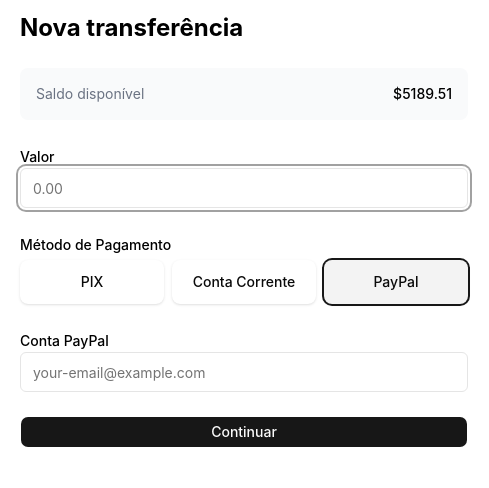
TransactionForm › should switch to PIX fields when PIX is selected
Step 1. Click the button "PIX" → click(92, 282), box [20, 260, 164, 304]
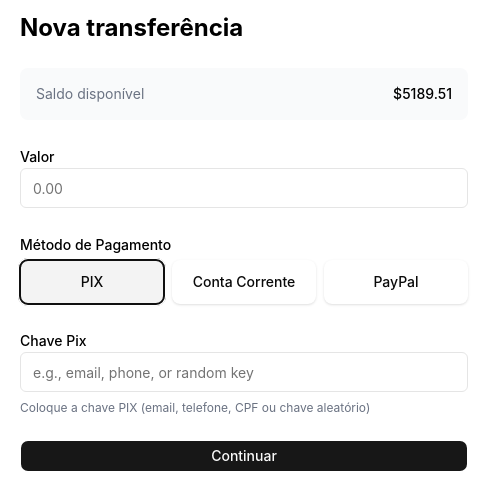
Expected: the field labelled "Chave Pix" is shown, [20, 352, 468, 392]
Now the label labelled "Conta PayPal" is gone
